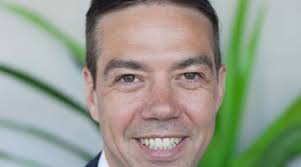middle_eastern_male: (95, 9, 217, 167)
